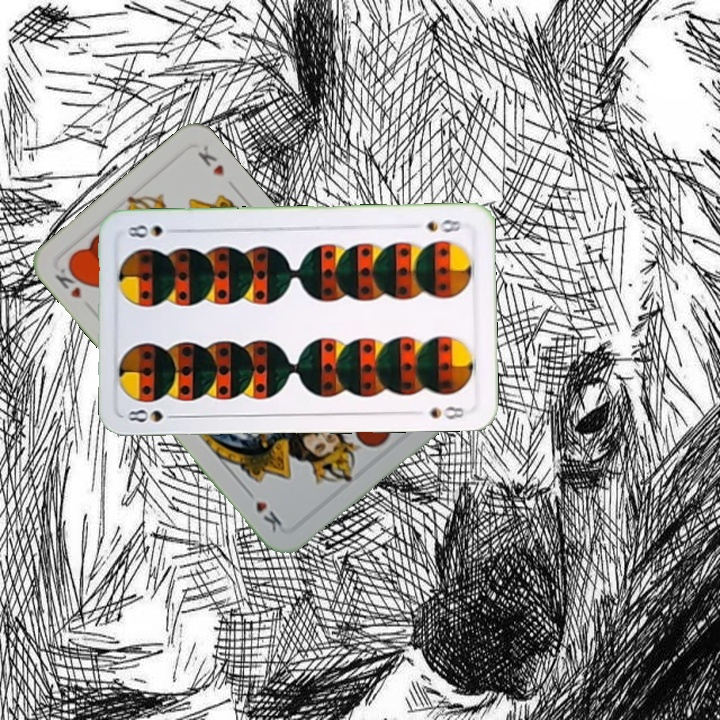HK: (50, 258, 88, 302)
S8: (124, 405, 182, 425), (422, 215, 465, 236)
